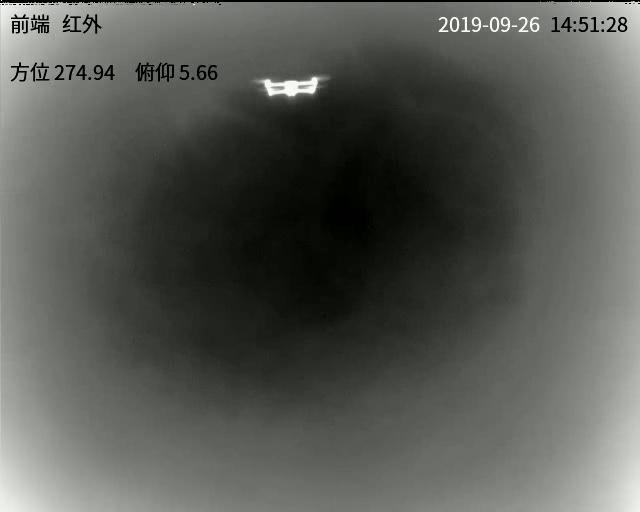DRONE: (259, 76, 323, 96)
